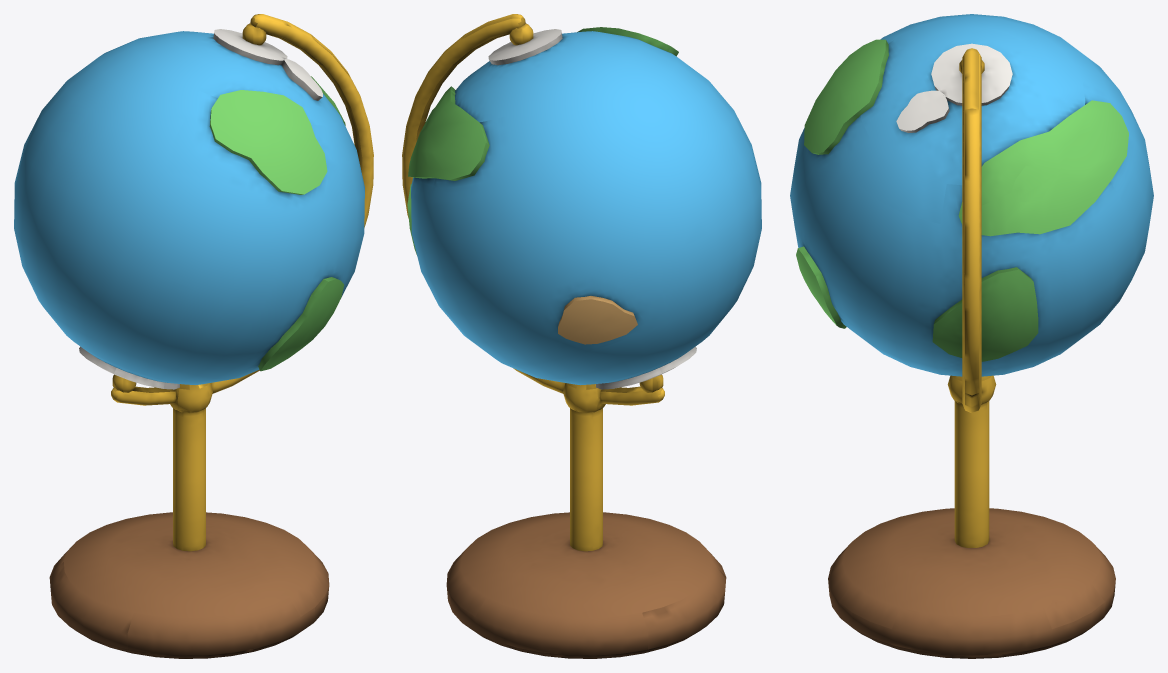
Rendered from globe.glb.
3 renders of one model, left to right at view 1: azimuth 30°, elevation 25°; view 2: azimuth 150°, elevation 25°; view 3: azimuth 270°, elevation 25°, orthographic. The views are drawn at different scales.
Parts seen in each view (by area): view 1: Globe, globe; view 2: Globe, globe; view 3: Globe, globe.
Part boxes in pixels (x1,y1,x2,y2): Globe: (14, 29, 364, 389); globe: (49, 14, 373, 658); Globe: (407, 27, 761, 389); globe: (402, 14, 726, 658); Globe: (790, 14, 1153, 376); globe: (828, 48, 1115, 658).
Bounding box in the file's own units: 0.1975 × 0.321 × 0.18.
6 materials, 6 textured.
